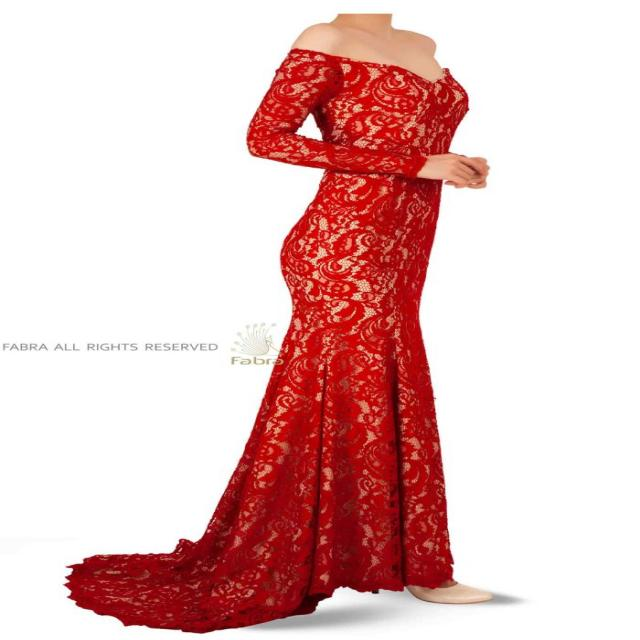clothes: (81, 39, 556, 639)
